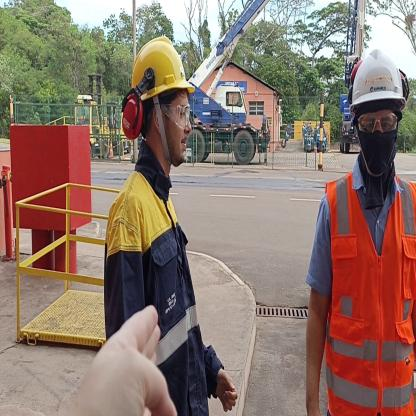Balaclava: (348, 103, 406, 191)
C_eletrica: (100, 166, 237, 416)
Capacete: (127, 34, 196, 95), (345, 41, 409, 103)
colete: (329, 184, 416, 416)
